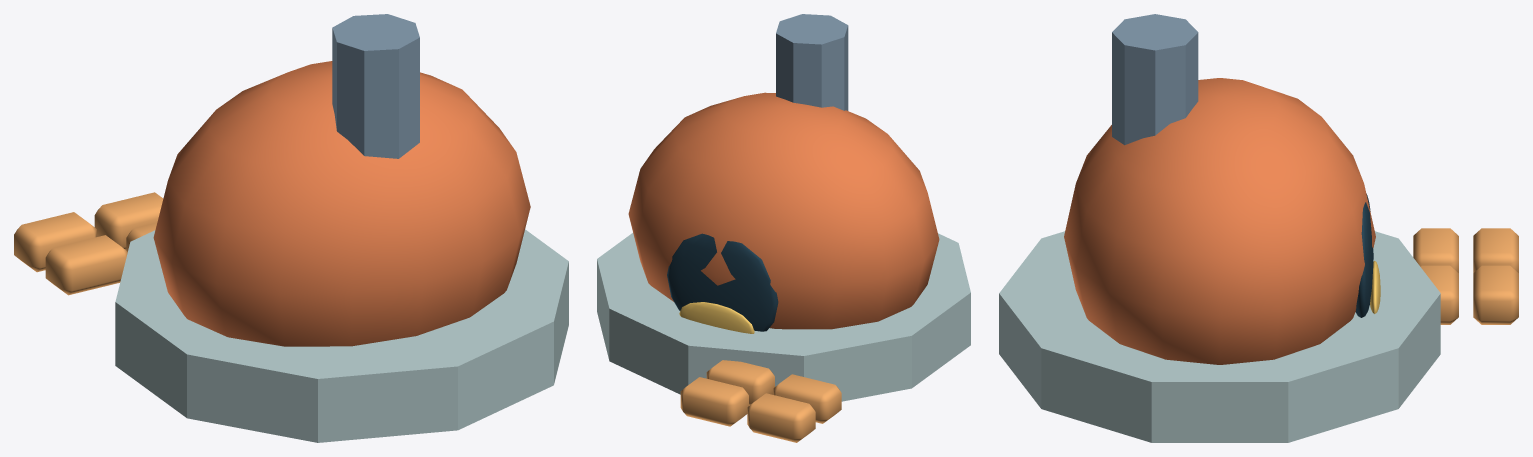
File: kiln.glb
3 views of the same model, side by side, from view 1: azimuth 30°, elevation 25°; view 2: azimuth 150°, elevation 25°; view 3: azimuth 270°, elevation 25° (orthographic). The views are drawn at different scales.
Parts seen in each view (by area): view 1: Clay oven, Stone base, Chimney, Finished brick, Finished brick.001, Finished brick.003; view 2: Clay oven, Stone base, Chimney, Dark opening, Finished brick.001, Finished brick.003, Finished brick, Finished brick.002, Warm embers; view 3: Clay oven, Stone base, Chimney, Finished brick.003, Finished brick.001, Finished brick, Finished brick.002, Dark opening.
Part boxes in pixels (box(x1,y1,x2,y2)): Clay oven: box(153, 61, 530, 346); Stone base: box(115, 229, 568, 442); Chimney: box(332, 14, 419, 158); Finished brick: box(45, 235, 127, 295); Finished brick.001: box(14, 212, 96, 272); Finished brick.003: box(94, 192, 163, 249); Clay oven: box(628, 92, 939, 329); Stone base: box(597, 233, 970, 401); Chimney: box(776, 14, 848, 110); Dark opening: box(667, 233, 778, 331); Finished brick.001: box(747, 393, 815, 442); Finished brick.003: box(680, 377, 748, 426); Finished brick: box(773, 374, 841, 423); Finished brick.002: box(706, 360, 774, 405); Warm embers: box(679, 302, 754, 333); Clay oven: box(1064, 78, 1375, 364); Stone base: box(999, 231, 1440, 442); Chimney: box(1112, 14, 1198, 145); Finished brick.003: box(1473, 265, 1518, 324); Finished brick.001: box(1473, 228, 1518, 272); Finished brick: box(1413, 228, 1458, 272); Finished brick.002: box(1420, 265, 1458, 324); Dark opening: box(1355, 193, 1373, 317).
Bounding box in the file's own units: 1.75 × 1.58 × 2.16.
